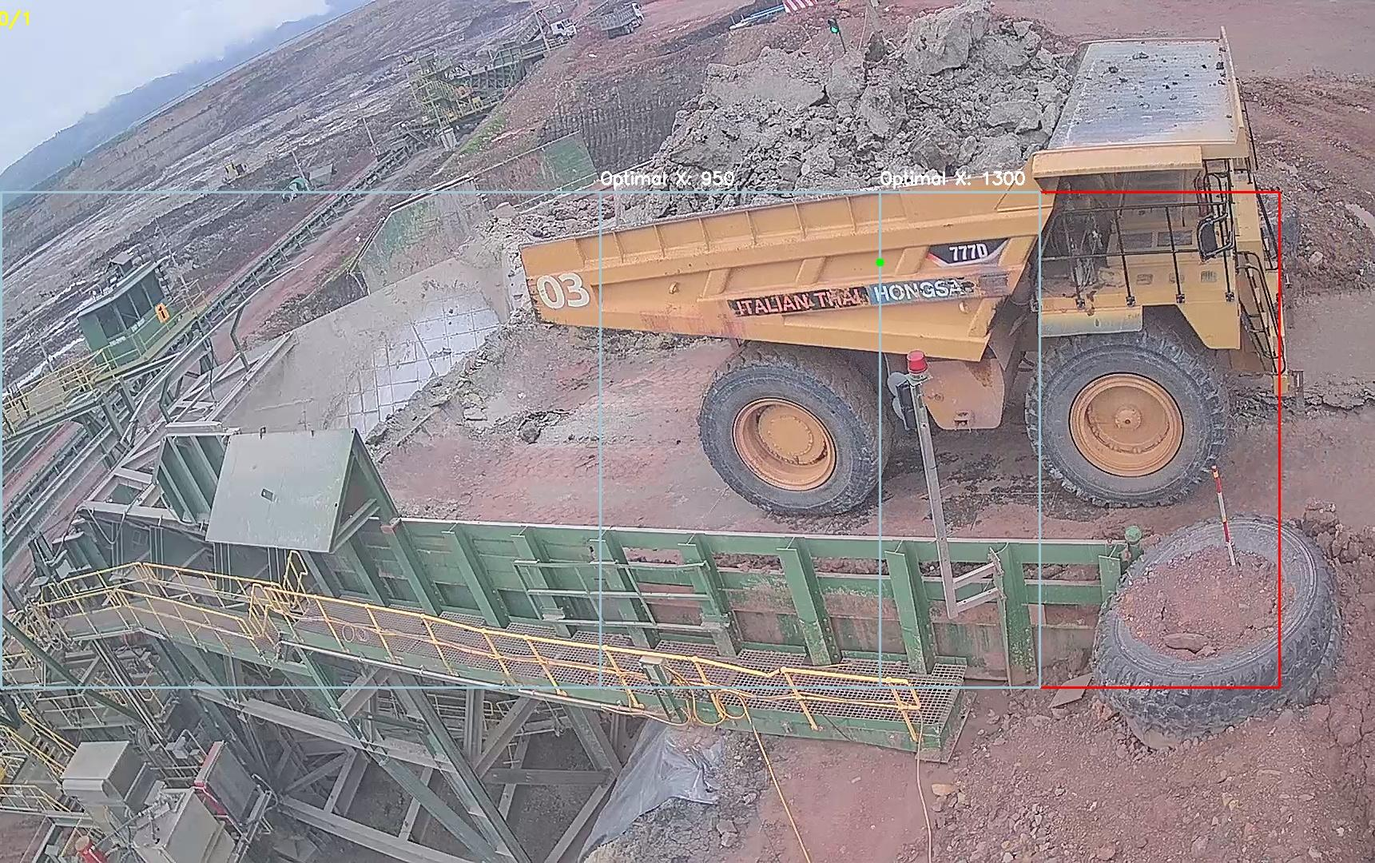company: (710, 274, 990, 328)
full_load: (686, 11, 1056, 205)
mining_truck: (504, 2, 1317, 518)
tail_number: (526, 256, 601, 322)
truck_size: (919, 223, 1014, 271)
